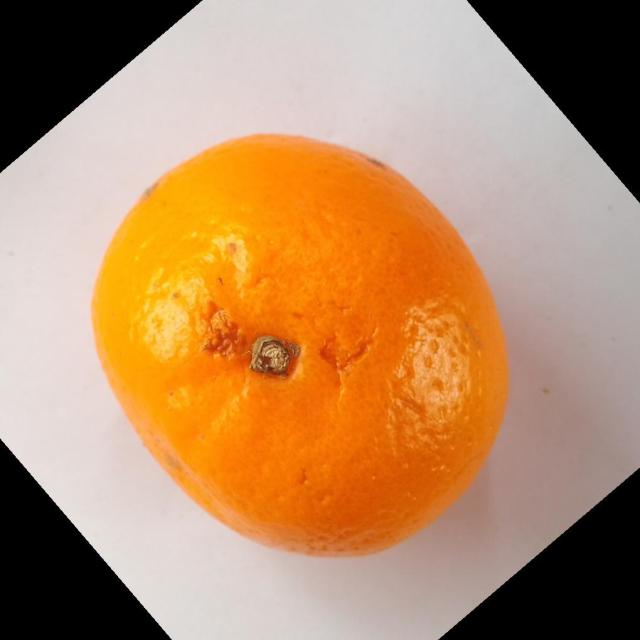fresh orange: (89, 131, 511, 558)
